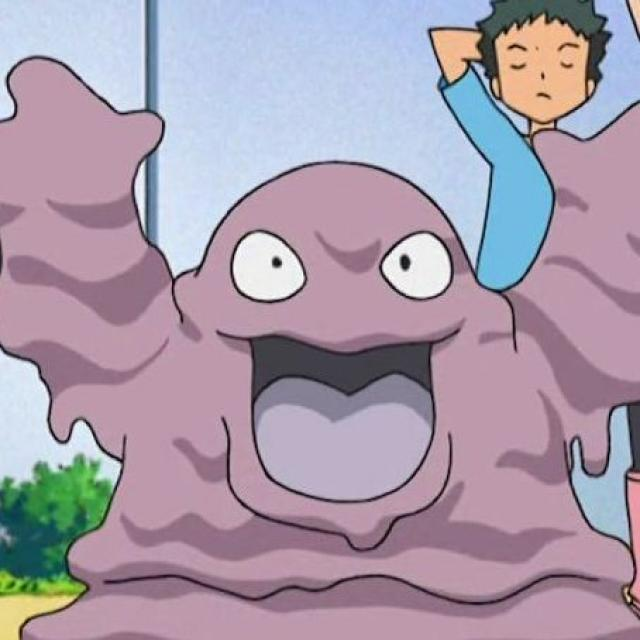Grimer: (71, 153, 624, 640)
